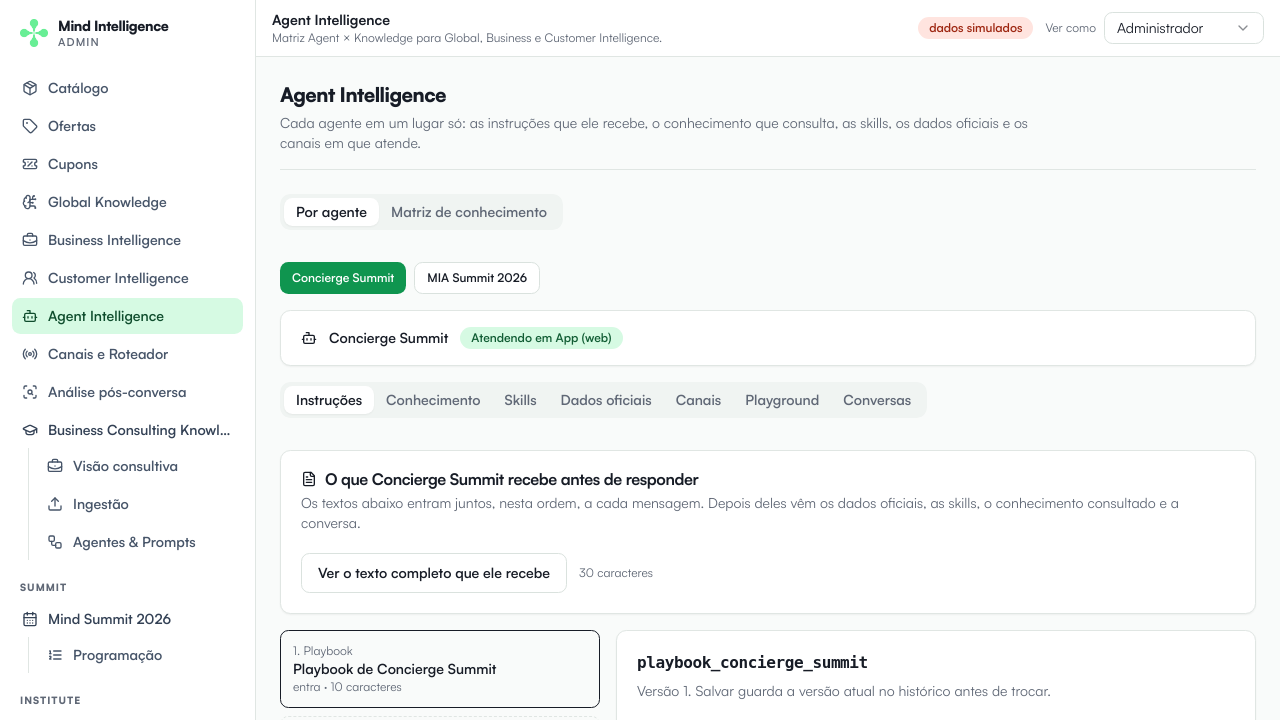
Test: o que o agente recebe (aba Instruções) › mostra as partes na ordem real e diz por que a MIA não recebe nada hoje
The image size is (1280, 720).
Click the button "MIA Summit 2026". click: (477, 278)
box: [414,262,540,294]
(page scrolled)
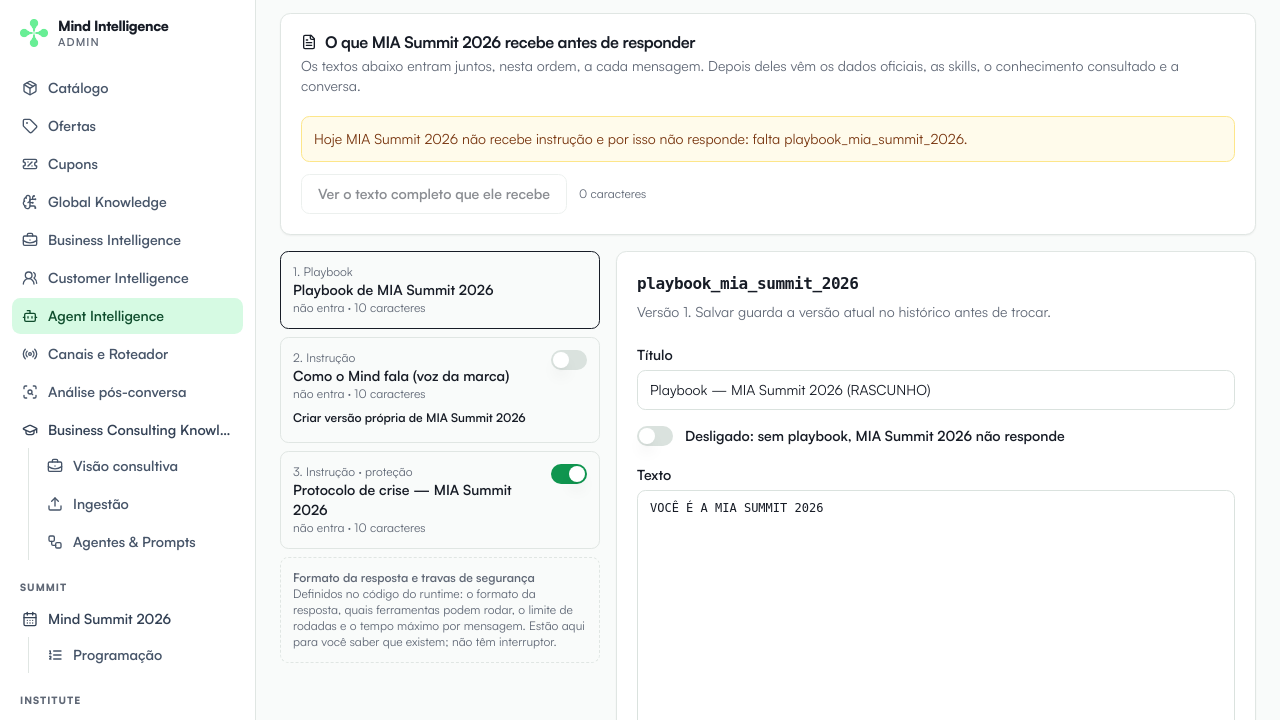
Expected: the text "Formato da resposta e travas de segurança" is shown, [293,570,535,585]
Expected: the text "não recebe instrução e por isso não responde: falta playbook_mia_summit_2026" is shown, [301,116,1235,162]
Expected: the switch named "Como o Mind fala (voz da marca): ligado em MIA Summit 2026" is not checked, [551,350,587,370]
